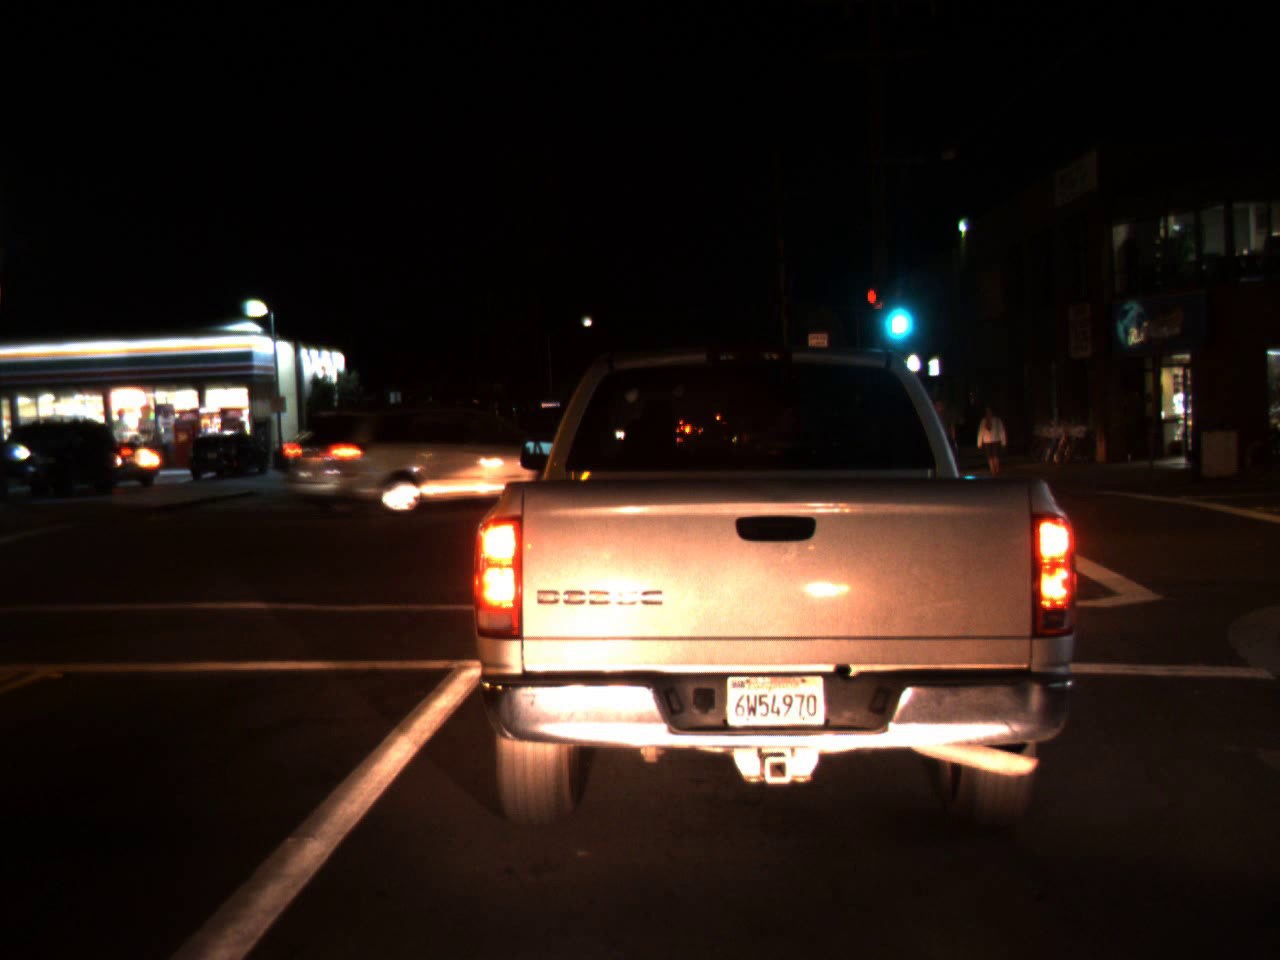go: (876, 273, 913, 345)
